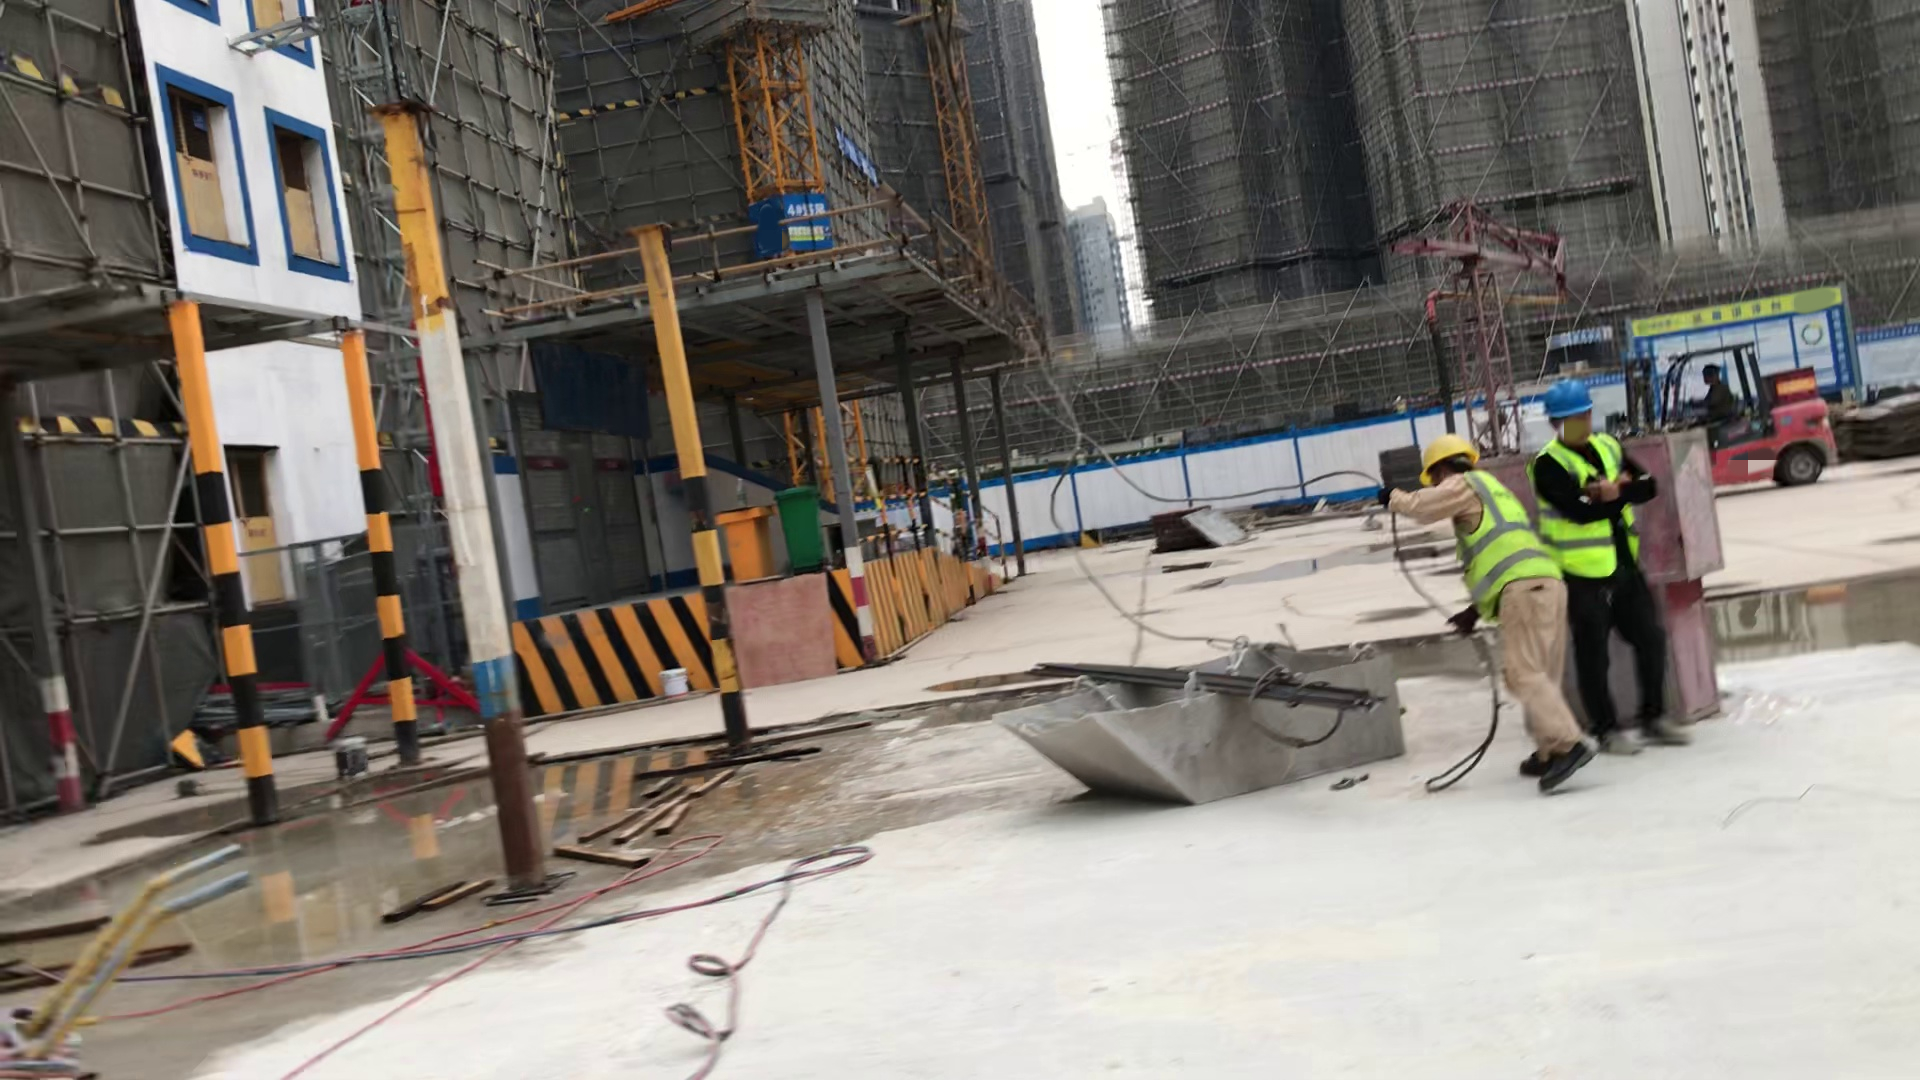board: (1184, 505, 1256, 551)
fence: (837, 439, 1022, 582)
handcart: (3, 837, 297, 1080)
helmet: (1533, 362, 1604, 433), (1405, 429, 1497, 481), (1700, 358, 1727, 378)
hopper: (983, 615, 1454, 835)
person: (1371, 426, 1609, 823), (1529, 369, 1719, 766), (1694, 350, 1765, 458)
rebar: (1027, 645, 1398, 732)
slogan: (1615, 285, 1867, 404), (729, 184, 845, 274), (814, 118, 881, 188), (1541, 315, 1622, 355)
vest: (1525, 431, 1655, 588), (1434, 472, 1560, 607)
